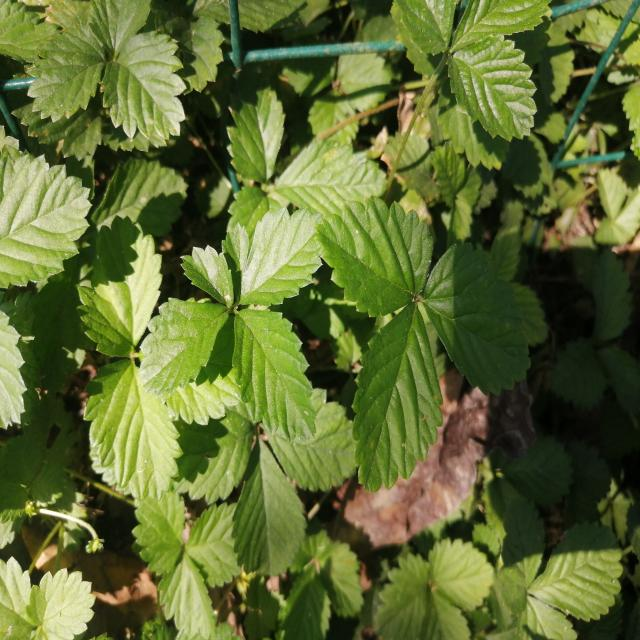Mock_strawberry: (322, 200, 520, 477), (144, 204, 342, 443)
